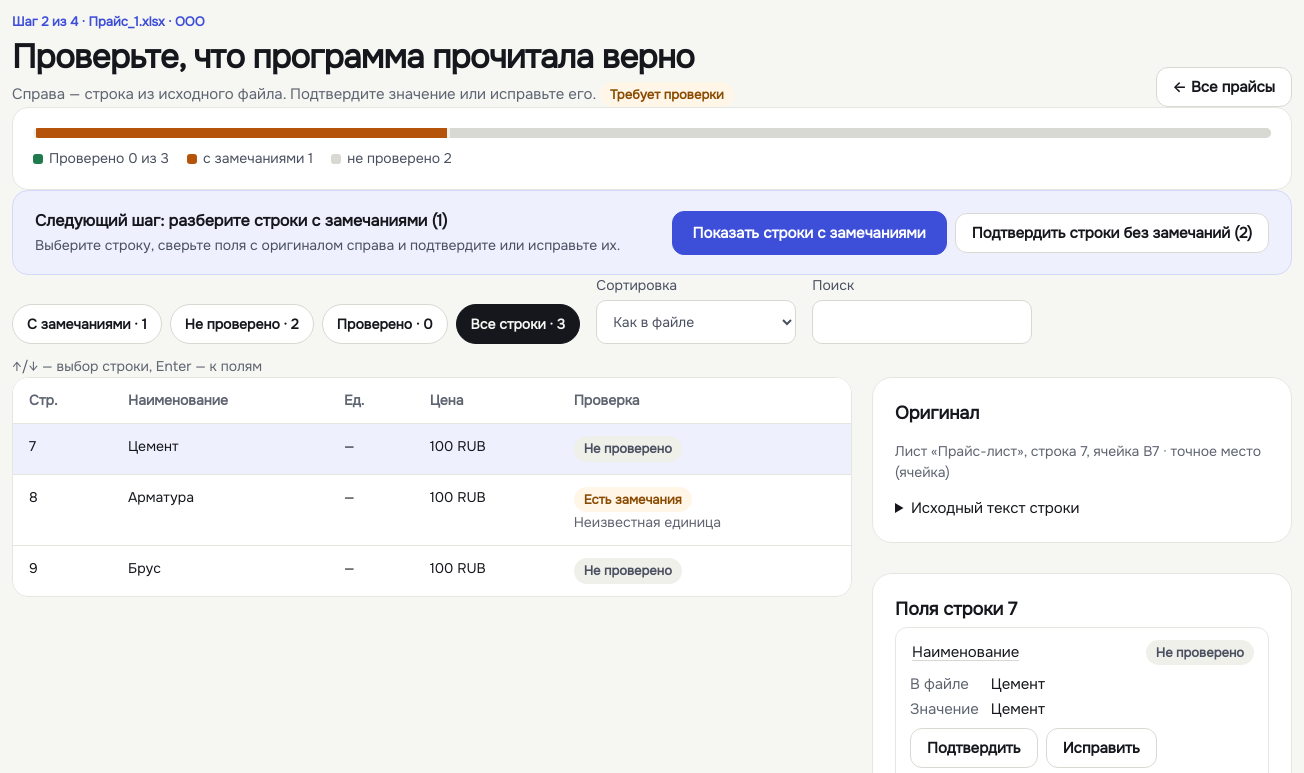
Test: DocumentReview › keeps the selected line and its source while sorting and filtering
The width and height of the screenshot is (1304, 773).
Click the text "Брус" at (144, 568), box [112, 546, 328, 596]
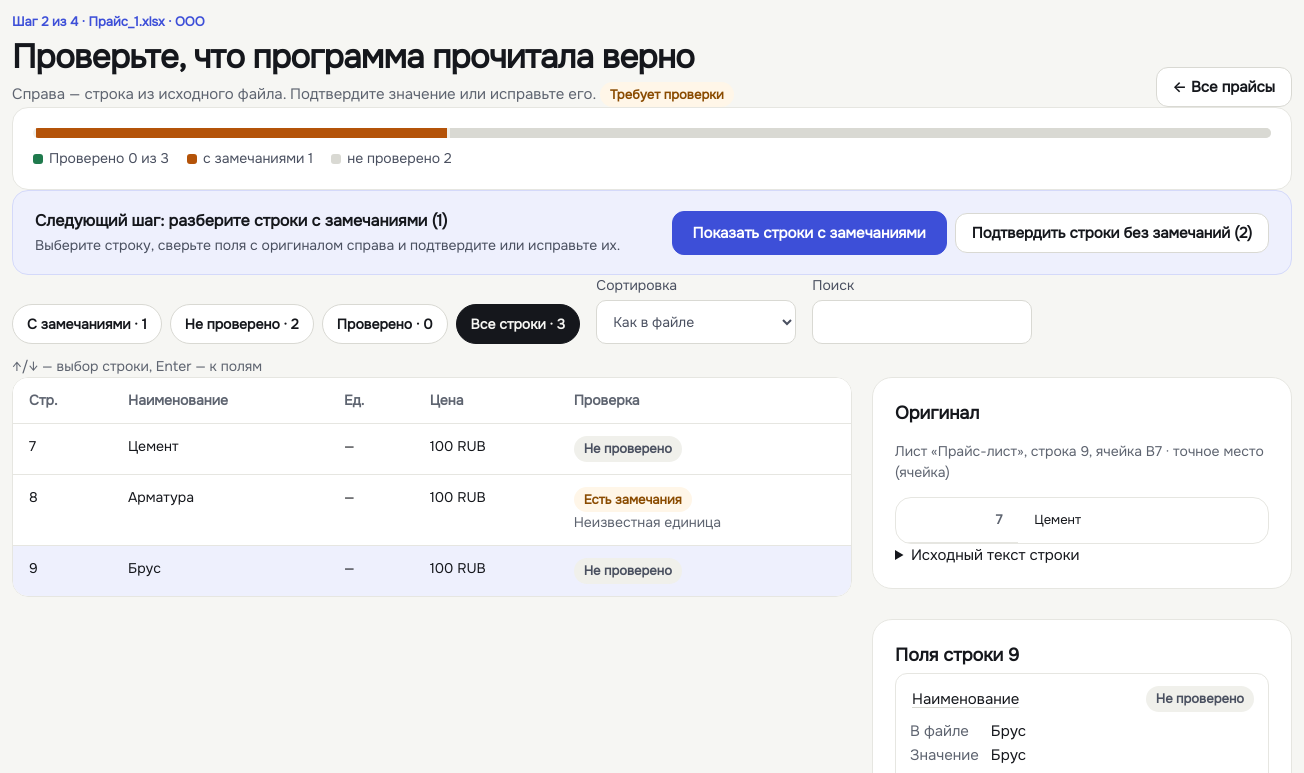
Expected: the heading "Поля строки 9" is shown, [895, 644, 1019, 666]
Select "По наименованию" in the dropdown labelled "Сортировка" at (696, 322), box [596, 300, 796, 344]
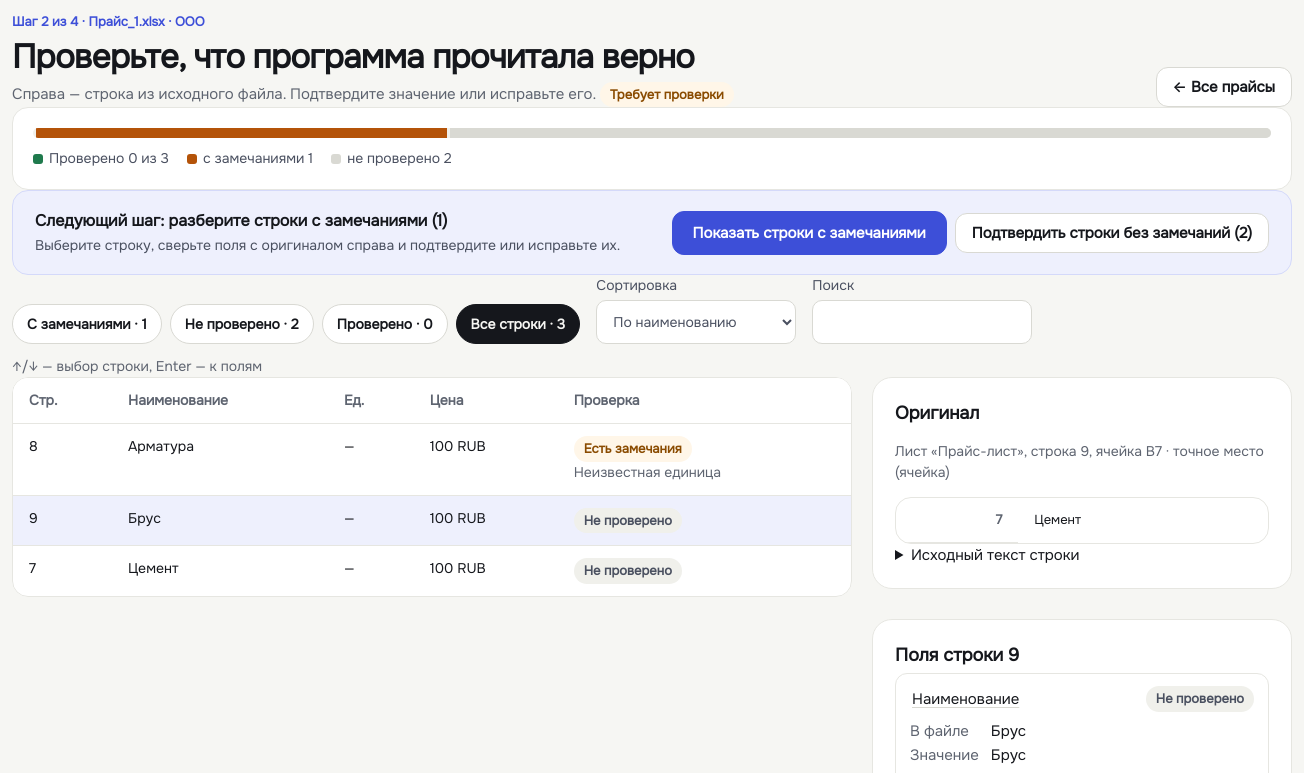
Click the button "С замечаниями · 1" at (87, 324), box [12, 304, 162, 344]
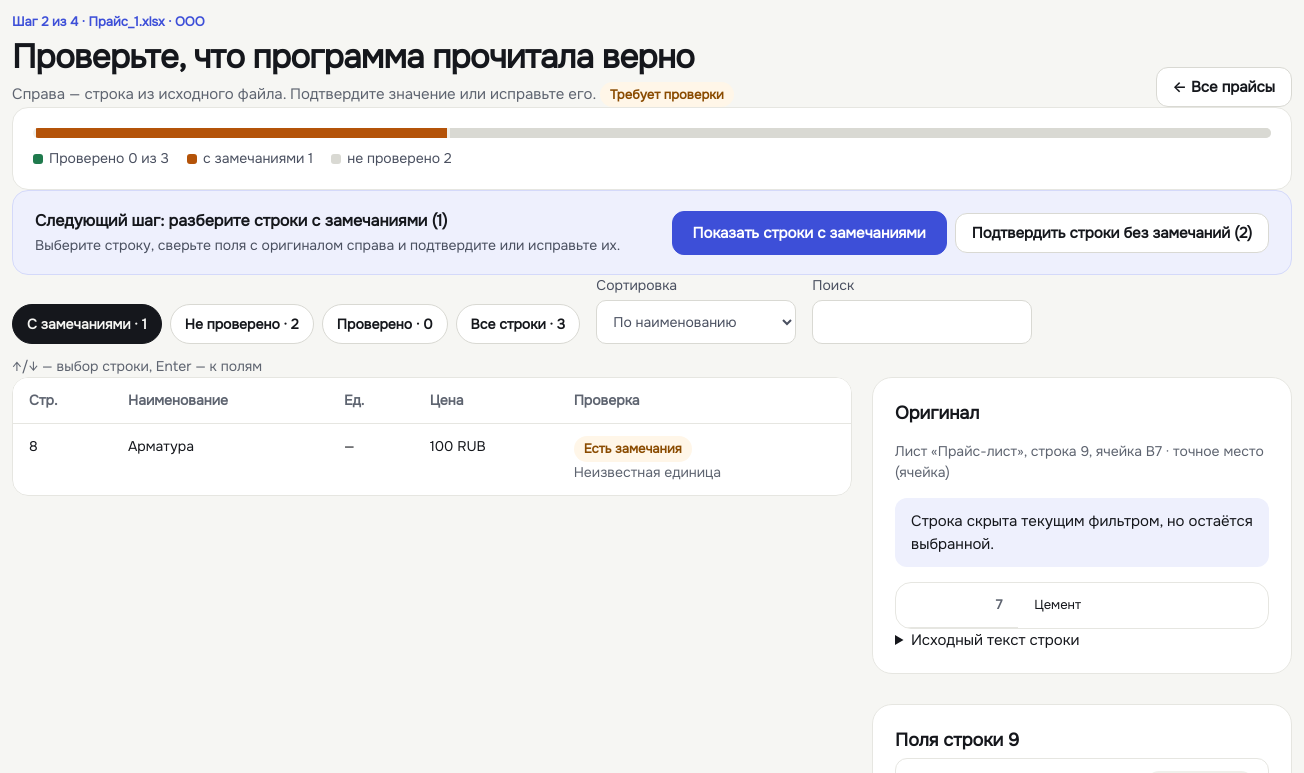
Expected: the text "Есть замечания" is shown, [574, 436, 692, 462]
Expected: the heading "Поля строки 9" is shown, [895, 729, 1019, 751]
Expected: the text "Строка скрыта текущим фильтром, но остаётся выбранной." is shown, [895, 498, 1269, 567]
